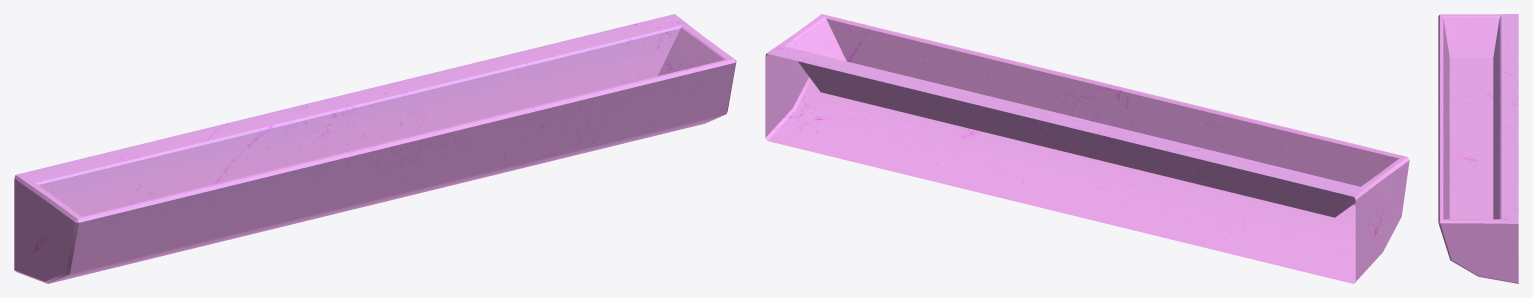
The model's file is Sink_01_SM_Low.fbx.
The picture shows the model from 3 angles, left to right: view 1: azimuth 30°, elevation 25°; view 2: azimuth 150°, elevation 25°; view 3: azimuth 270°, elevation 25°; orthographic projection. The views are drawn at different scales.
Visible parts, largest first — view 1: Sink; view 2: Sink; view 3: Sink.
Boxes of the visible parts, box(x1,y1,x2,y2) form: Sink: box(14, 14, 736, 283); Sink: box(765, 14, 1409, 283); Sink: box(1438, 14, 1518, 283).
Bounding box in the file's own units: 5.17 × 0.7305 × 0.8421.
Materials: 1 (1 with a texture image).
